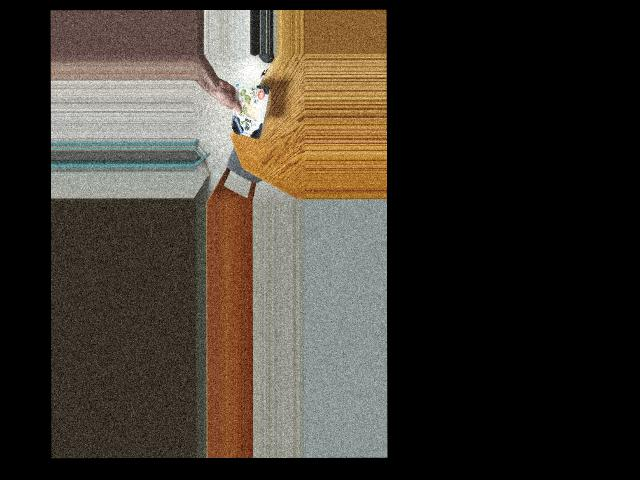cheese: (230, 84, 270, 138)
